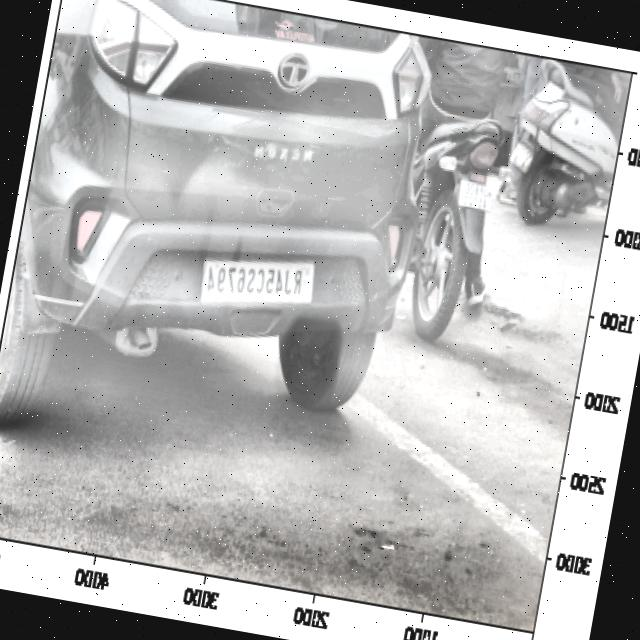license_plate: (198, 247, 309, 322)
